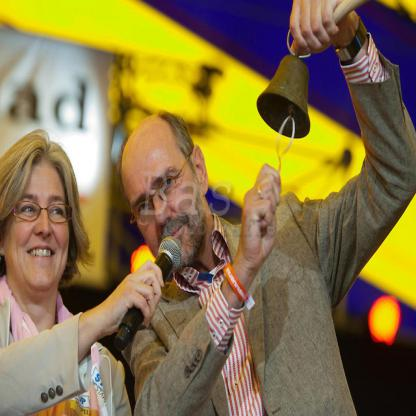face: (123, 135, 207, 261), (5, 161, 71, 290)
